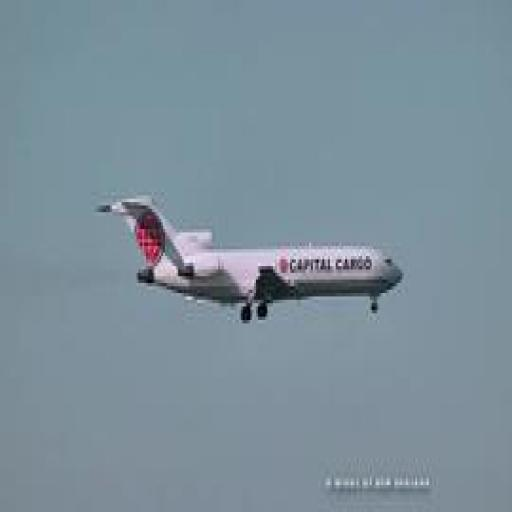aircraft: (96, 190, 405, 326)
